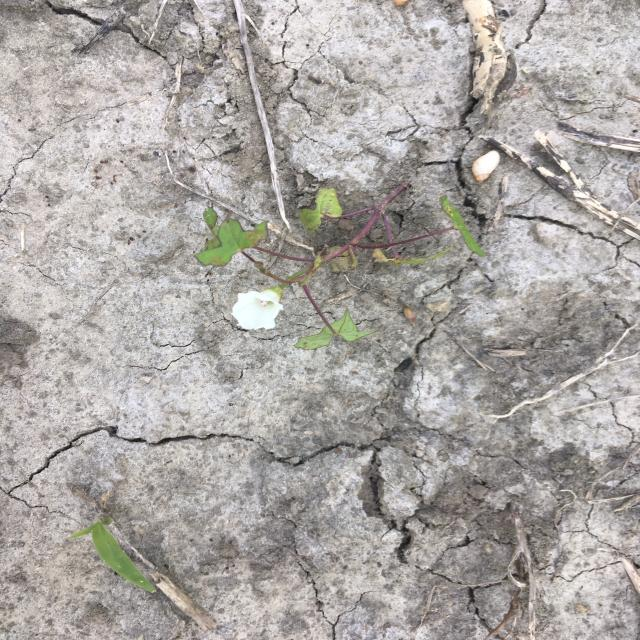MorningGlory: (193, 180, 488, 353)
